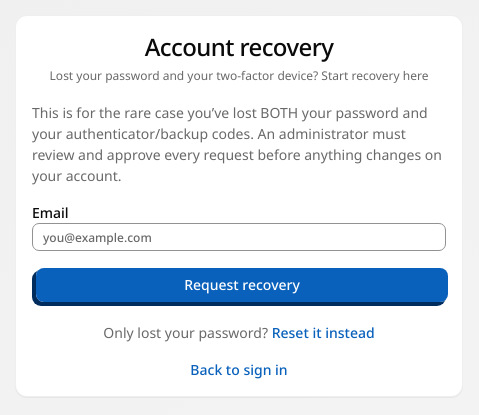
it: shows the request form when there is no token, and a generic confirmation on submit
Check: the form with test id "account-recovery-form" is shown, box [32,102,446,306]
Step 1. Type "someone@example.com" into the field labelled "Email" → (239, 237), box [32,223,446,251]
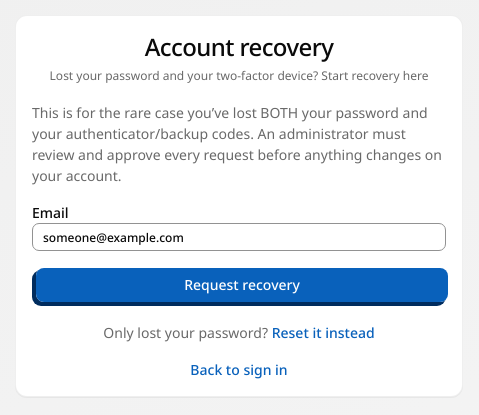
Step 2. Click the button "Request recovery" → (242, 285), box [35,267,449,303]
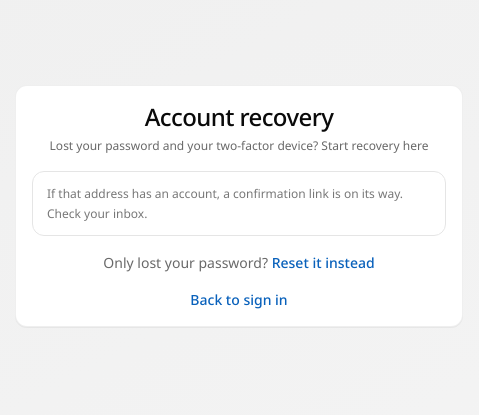
Check: the message with test id "account-recovery-request-sent" is shown, box [32,171,446,236]
